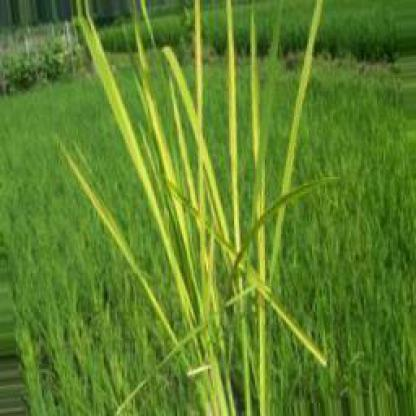Tungro: (75, 3, 172, 245), (62, 151, 169, 314), (269, 3, 326, 292), (160, 53, 232, 264), (169, 295, 260, 415), (248, 3, 271, 416), (228, 3, 240, 287), (194, 3, 206, 247)
